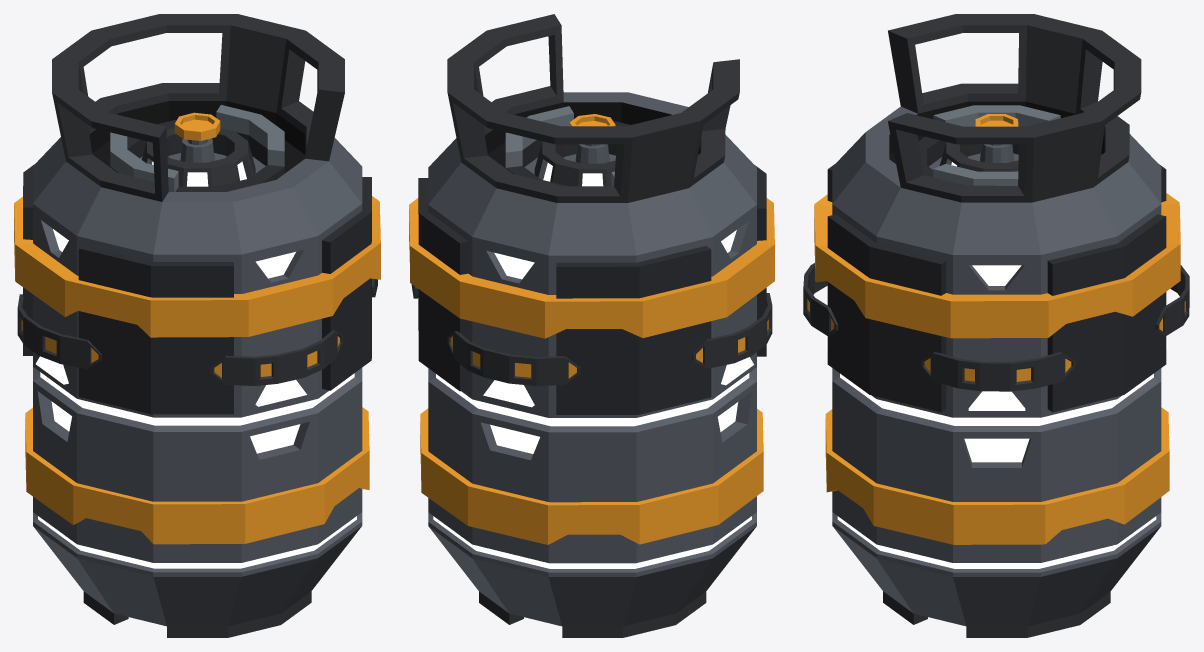
File: SM_Barrel_Gas.glb
The picture shows the model from 3 angles, left to right: view 1: azimuth 30°, elevation 25°; view 2: azimuth 150°, elevation 25°; view 3: azimuth 270°, elevation 25°; orthographic projection.
Visible parts, largest first — view 1: SM_Barrel_Gas; view 2: SM_Barrel_Gas; view 3: SM_Barrel_Gas.
Boxes of the visible parts, <box> form: SM_Barrel_Gas: <box>14,14,380,637</box>; SM_Barrel_Gas: <box>409,14,774,637</box>; SM_Barrel_Gas: <box>803,14,1189,637</box>.
Size of the model in its own units: 0.6618 by 0.9745 by 0.6635.
2 materials, 1 textured.
